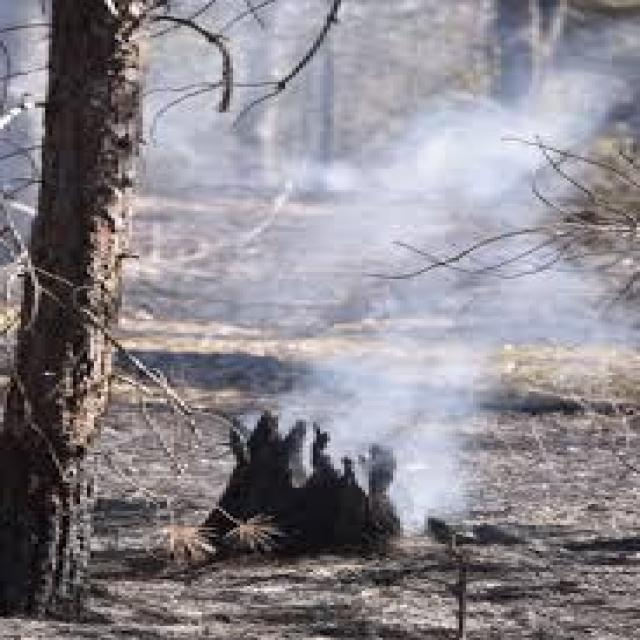Smoke: (270, 100, 536, 304), (281, 338, 489, 508)
